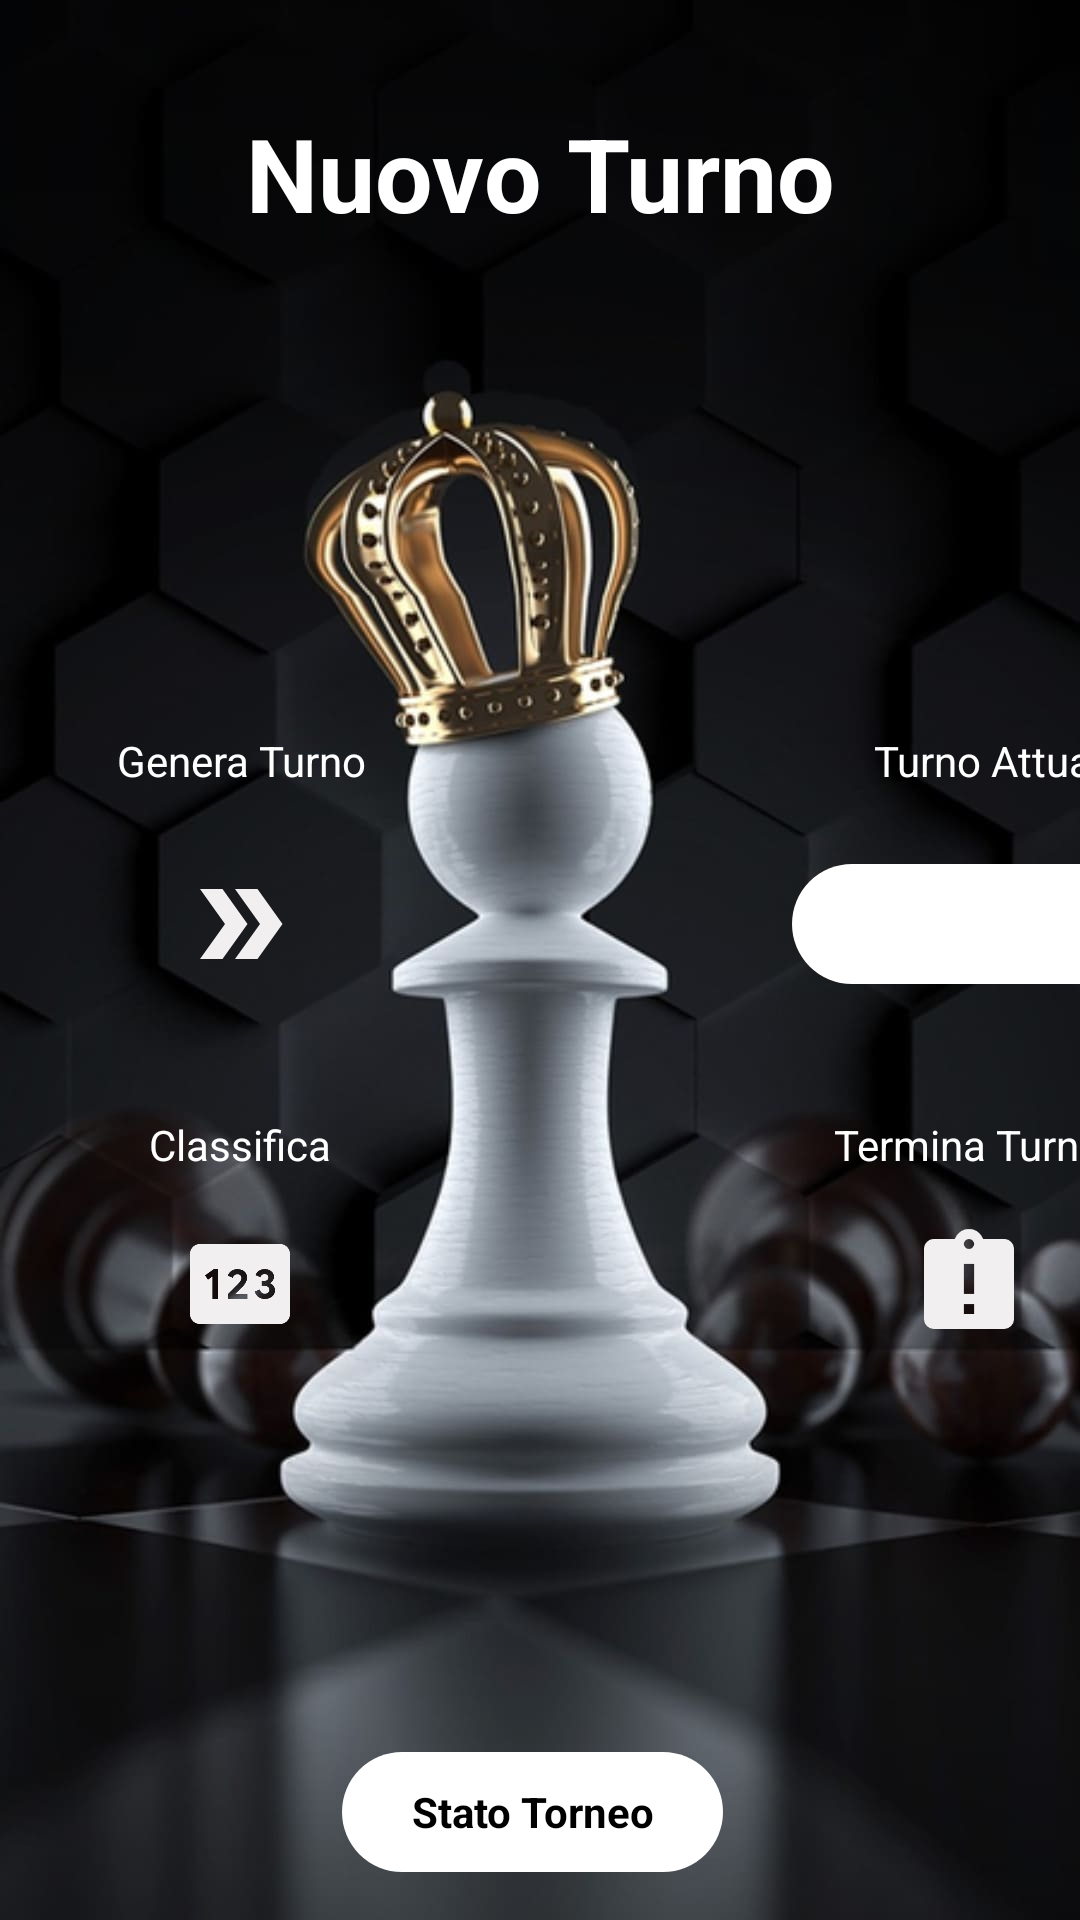

Where icons sit on this 1080*1920 app screen, as (x1, y1, x2, y2):
freccia bianca: (200, 889, 283, 959)
